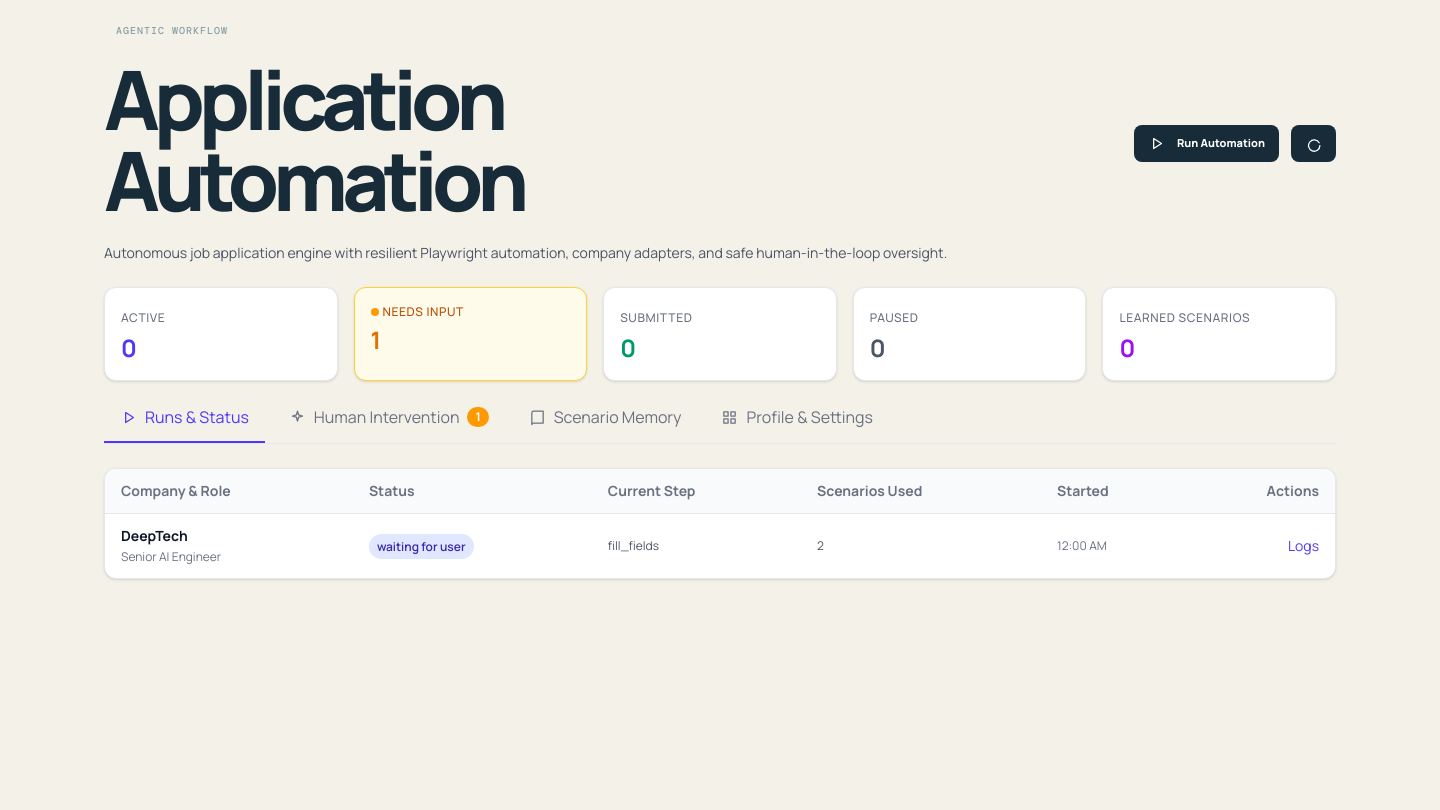
Test: AutomationDashboard › shows intervention tab and displays waiting run details
The image size is (1440, 810).
Step 1. Click the button "Human Intervention 1" → point(389, 424), box [273,405,505,443]
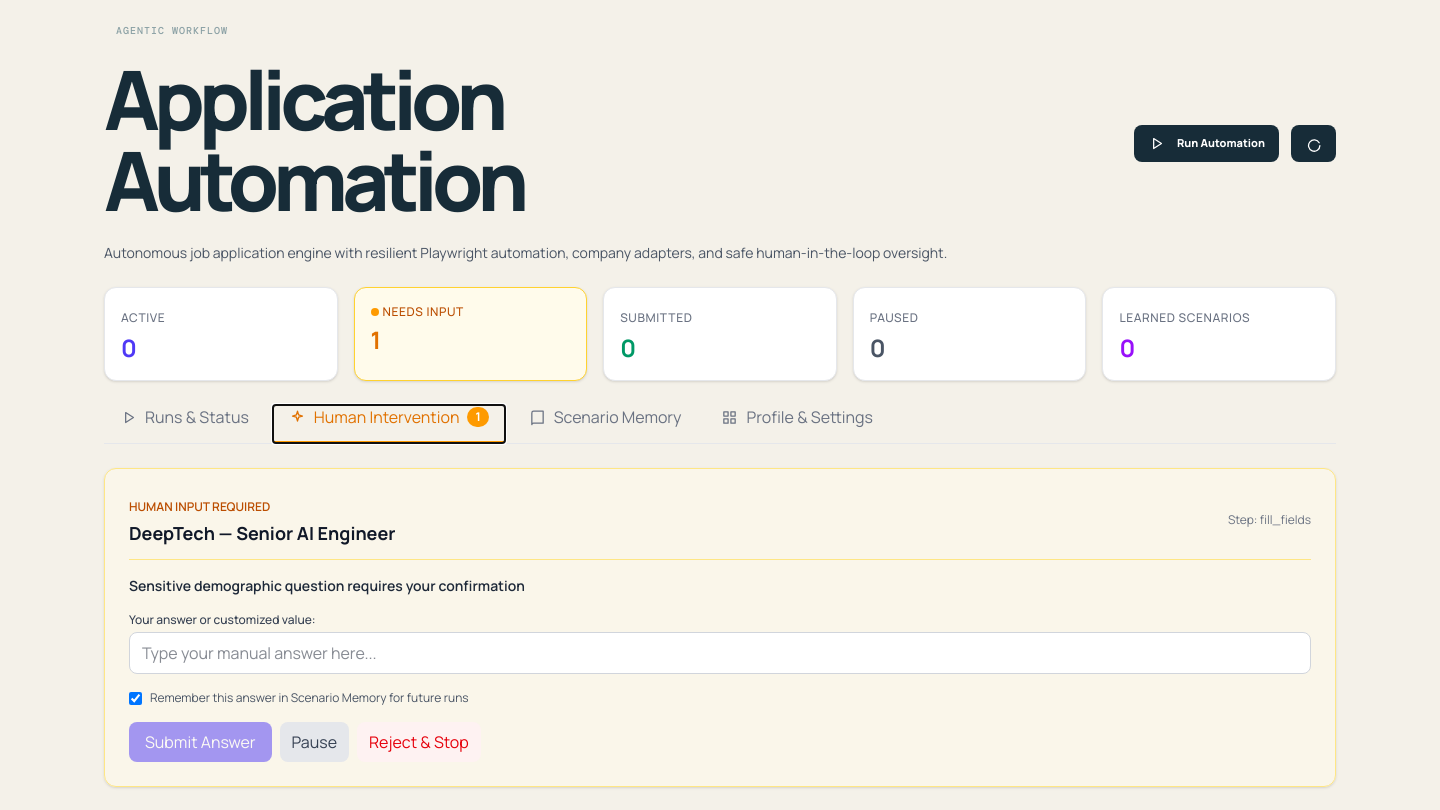
Result: the text "Human Input Required" is shown at [129,498,270,515]
Result: the text "Sensitive demographic question requires your confirmation" is shown at [129,576,525,595]
Result: the button "Submit Answer" is shown at [129,722,272,762]
